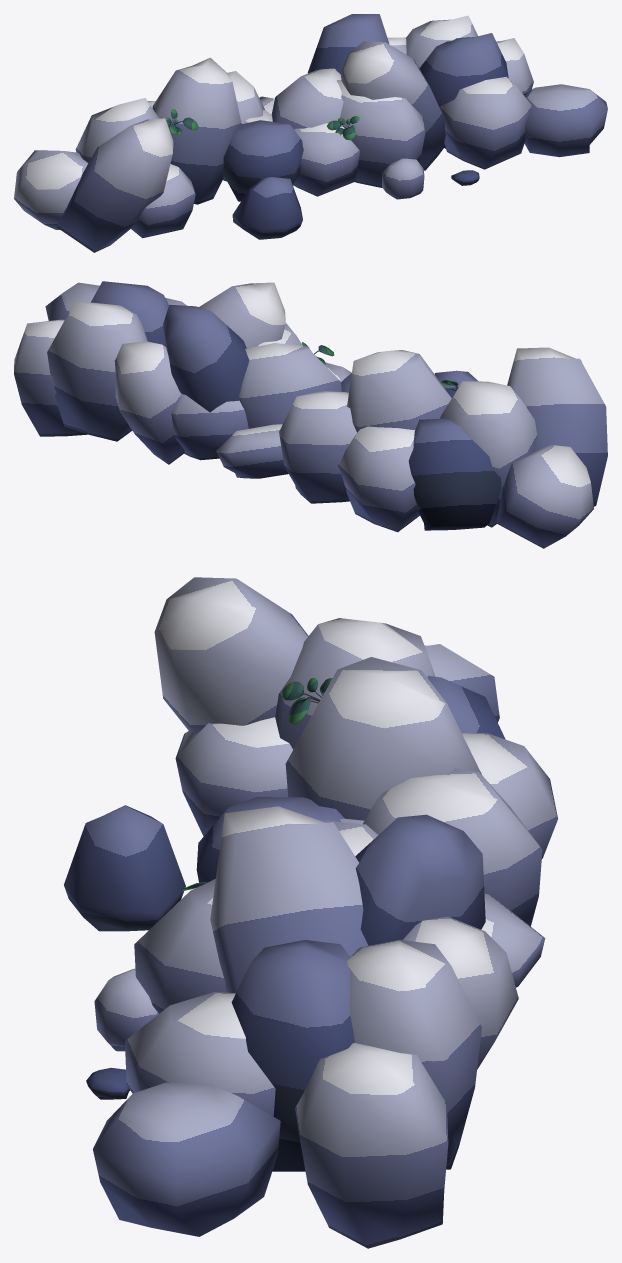
Rendered from Rock_Wall_Obstacle.fbx.
3 views of the same model, one above another, from view 1: azimuth 30°, elevation 25°; view 2: azimuth 150°, elevation 25°; view 3: azimuth 270°, elevation 25° (orthographic). The views are drawn at different scales.
Parts seen in each view (by area): view 1: Rock04; view 2: Rock04; view 3: Rock04.
Boxes of the visible parts, x1,y1,x2,y2 form: Rock04: (14, 14, 607, 252); Rock04: (14, 281, 607, 548); Rock04: (64, 577, 557, 1248).
Bounding box in the file's own units: 1425 × 360 × 576.
Materials: 1 (1 with a texture image).
